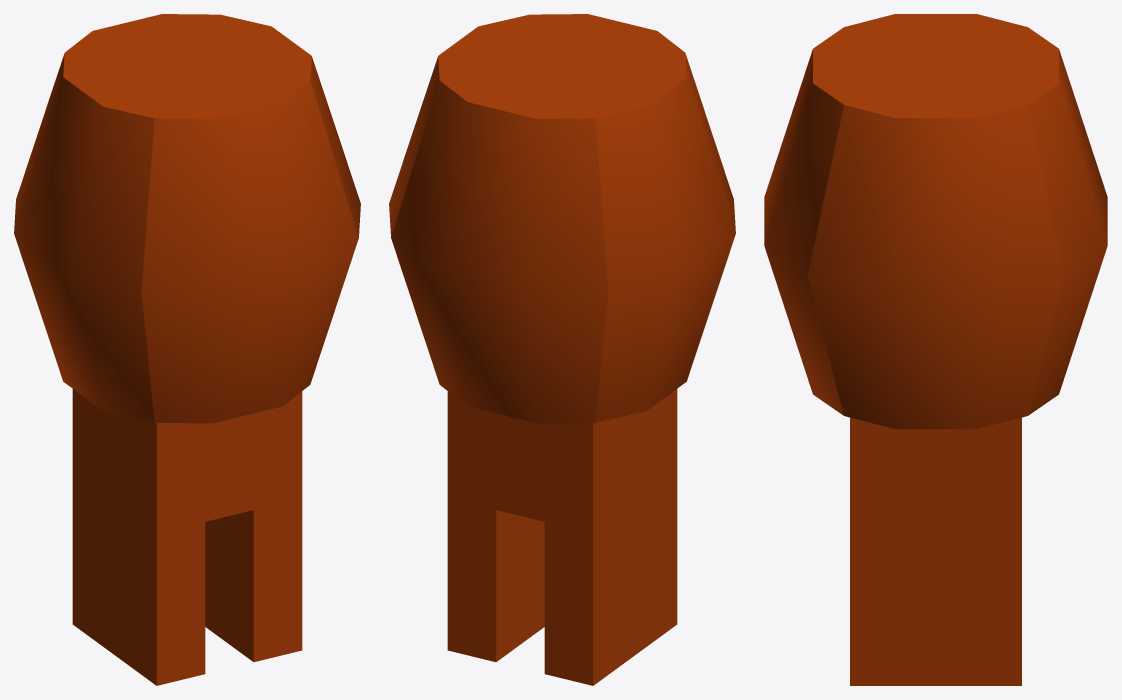
File: MVP_character.FBX
The picture shows the model from 3 angles, left to right: view 1: azimuth 30°, elevation 25°; view 2: azimuth 150°, elevation 25°; view 3: azimuth 270°, elevation 25°; orthographic projection. The views are drawn at different scales.
Visible parts, largest first — view 1: MVP_character; view 2: MVP_character; view 3: MVP_character.
Part boxes in pixels (left/top/right/bottom): MVP_character: left=14, top=14, right=360, bottom=685; MVP_character: left=389, top=14, right=735, bottom=685; MVP_character: left=764, top=14, right=1107, bottom=685.
Size of the model in its own units: 0.8 by 1.5 by 0.8.
